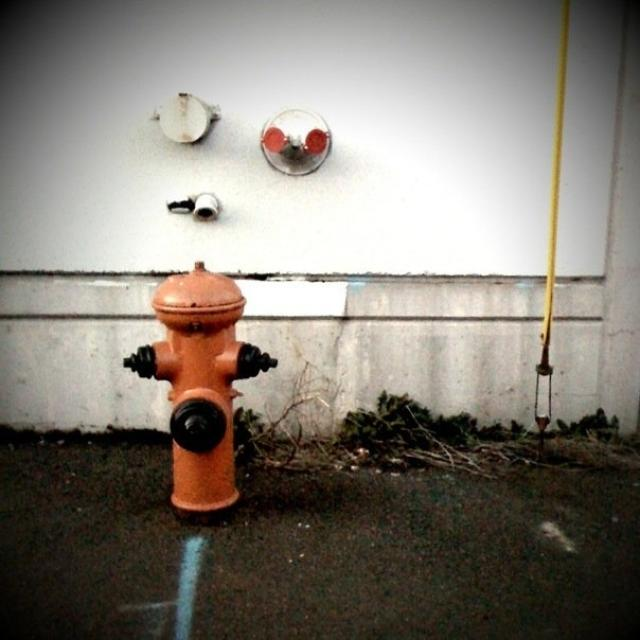fire_hydrant: (103, 255, 300, 534)
